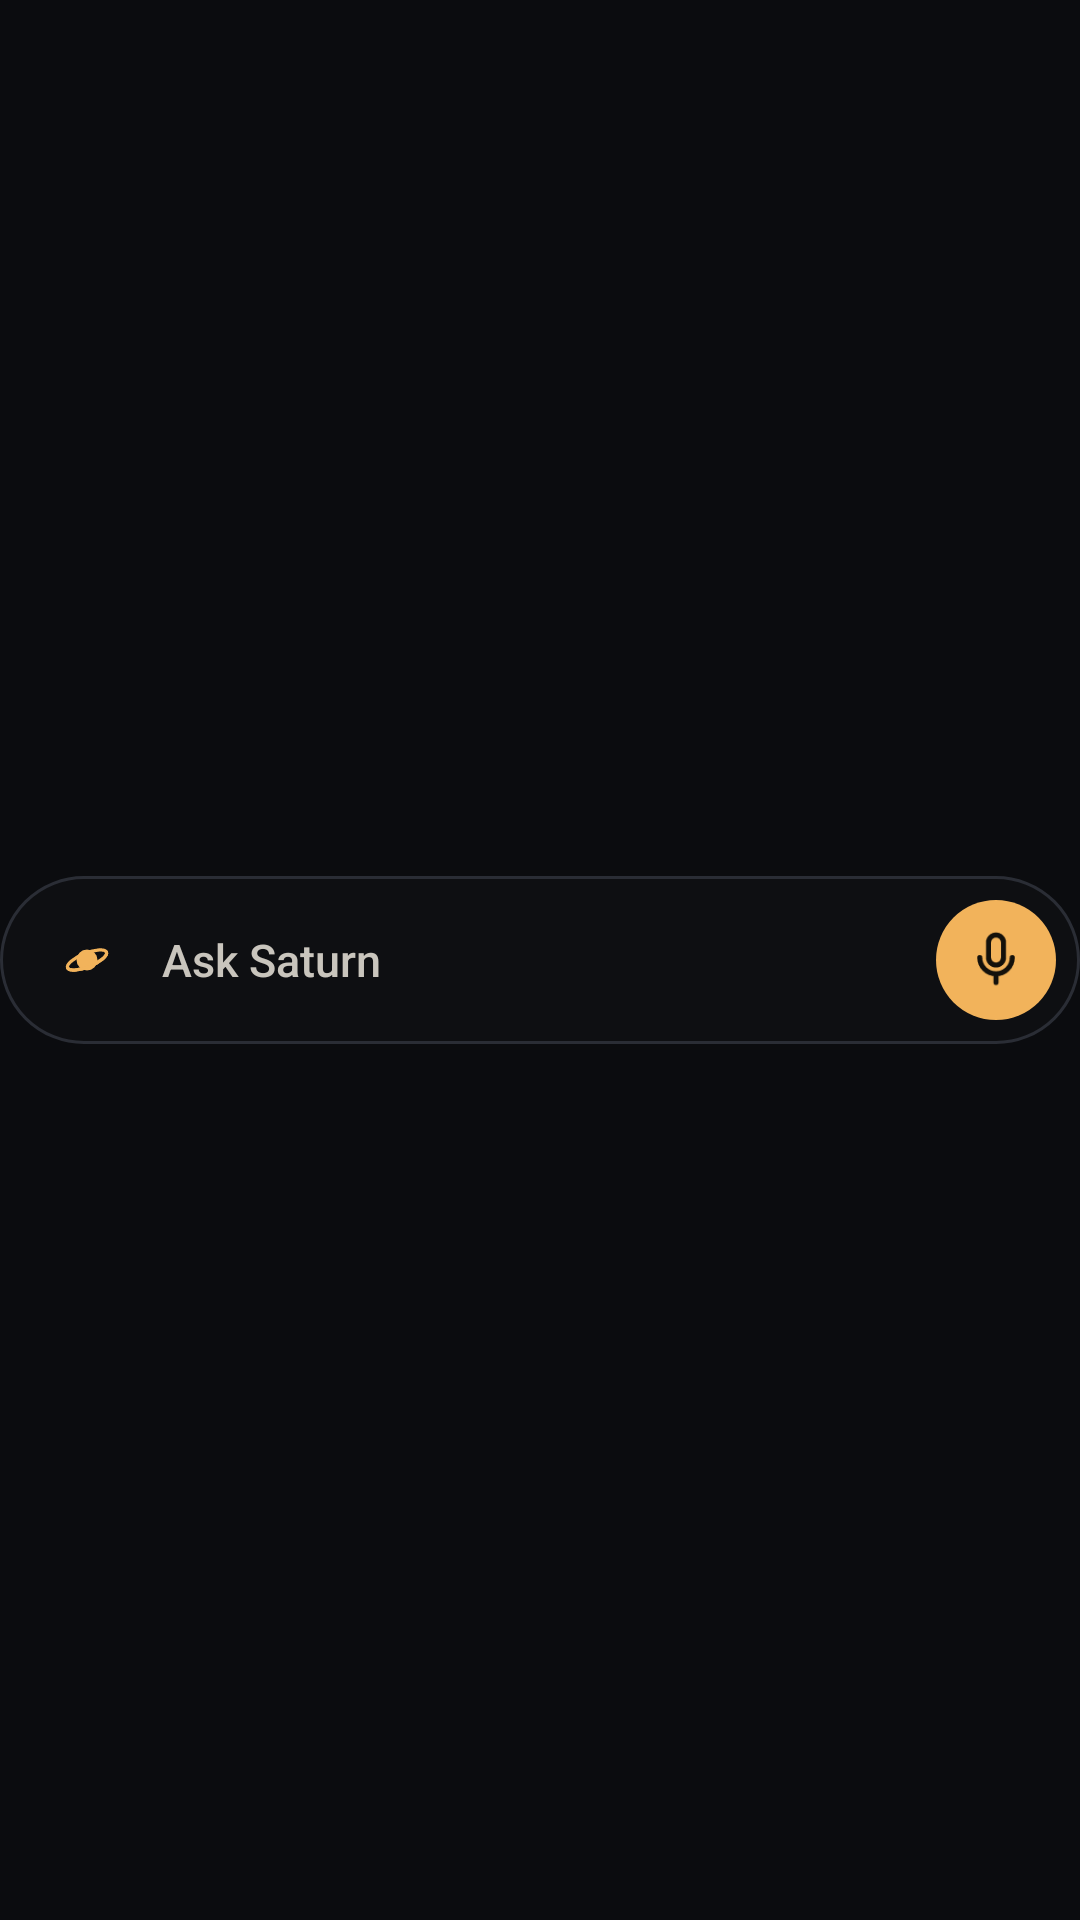

Screen size 1080×1920. Icon name, then its center in pixels as point (x, y):
Talk to Saturn: point (996, 960)
